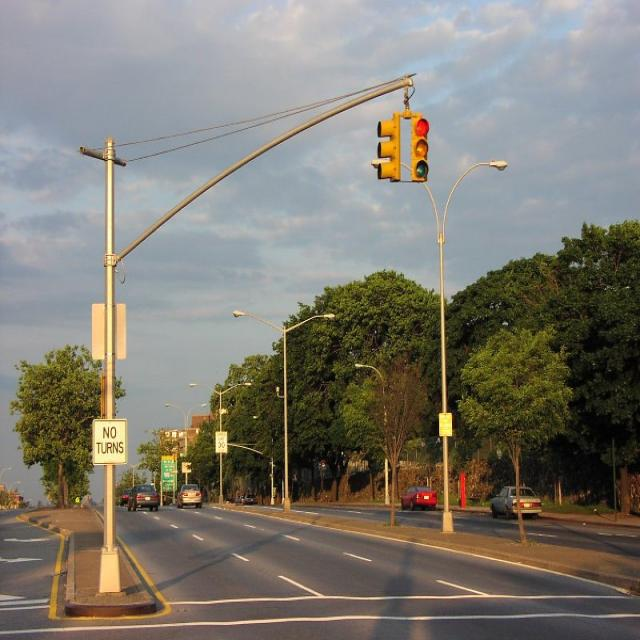Electric pole: (426, 160, 509, 414), (234, 310, 335, 513), (443, 435, 453, 534)
